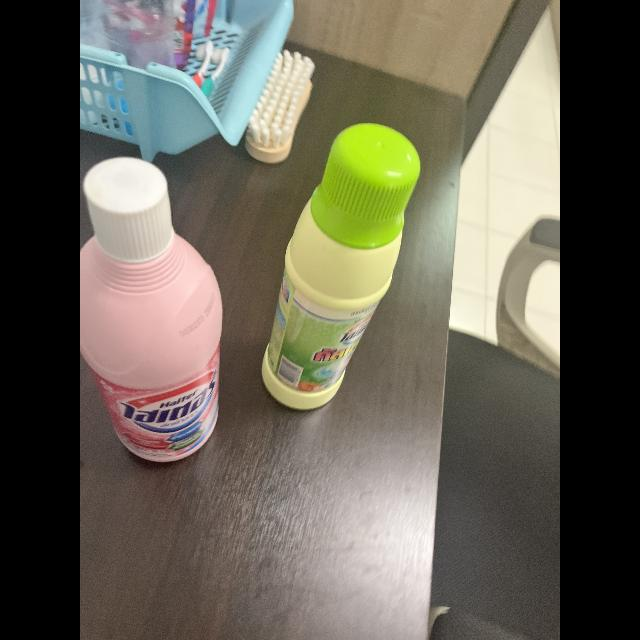chemical_plastic_bottle: (253, 120, 422, 414), (80, 154, 228, 476)
